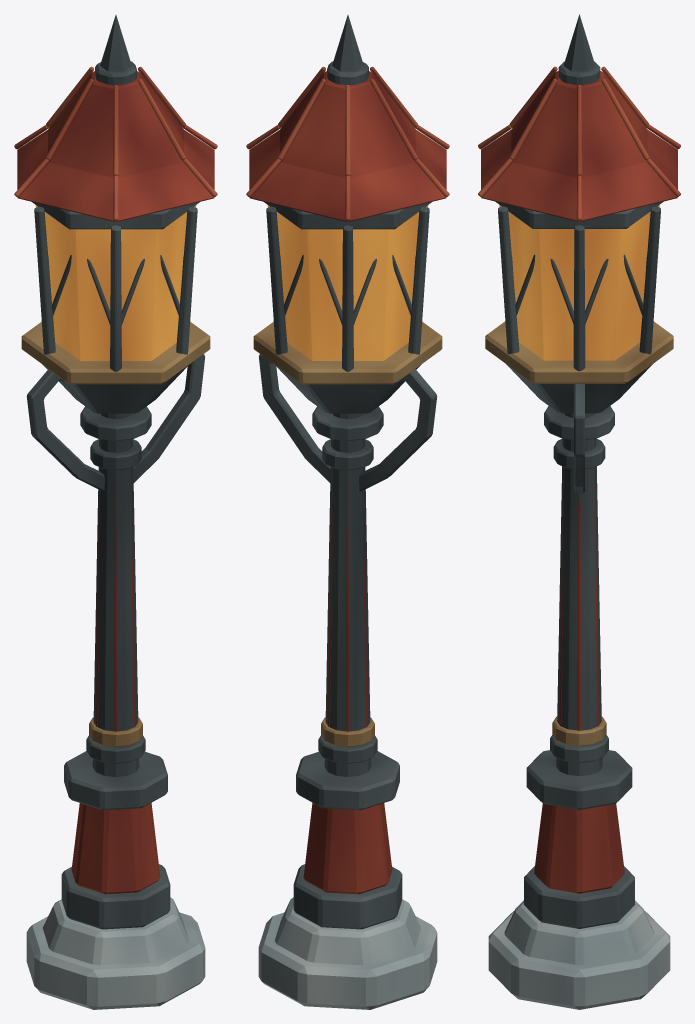
Rendered from gothic_lantern.glb.
The picture shows the model from 3 angles, left to right: view 1: azimuth 30°, elevation 25°; view 2: azimuth 150°, elevation 25°; view 3: azimuth 270°, elevation 25°; orthographic projection.
Visible parts, largest first — view 1: Gothic_Lantern_Threshold_v1; view 2: Gothic_Lantern_Threshold_v1; view 3: Gothic_Lantern_Threshold_v1.
Part boxes in pixels (x1,y1,x2,y2): Gothic_Lantern_Threshold_v1: (14, 15, 217, 1009); Gothic_Lantern_Threshold_v1: (246, 15, 449, 1009); Gothic_Lantern_Threshold_v1: (478, 14, 680, 1009).
Size of the model in its own units: 0.951 by 4.31 by 0.8262.
Materials: 6 (6 with a texture image).
